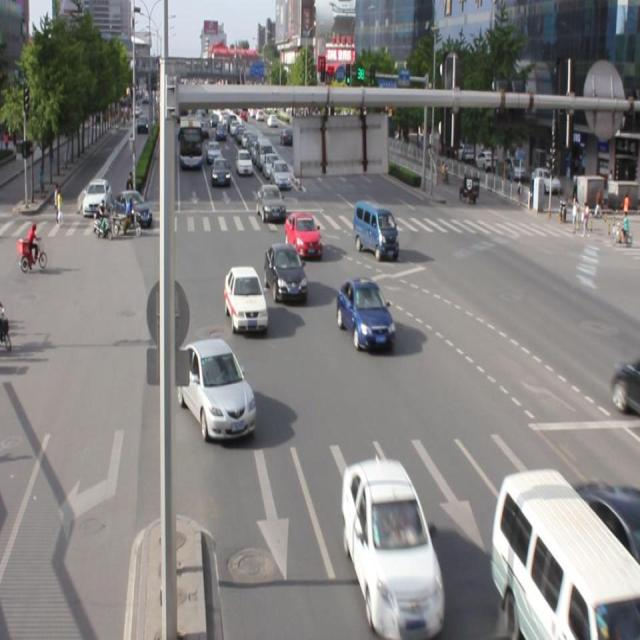car: (342, 459, 444, 627), (180, 339, 256, 444), (336, 278, 394, 349), (224, 266, 268, 334), (264, 243, 307, 305), (284, 212, 322, 259)
truck: (491, 469, 640, 640), (352, 201, 398, 256)
